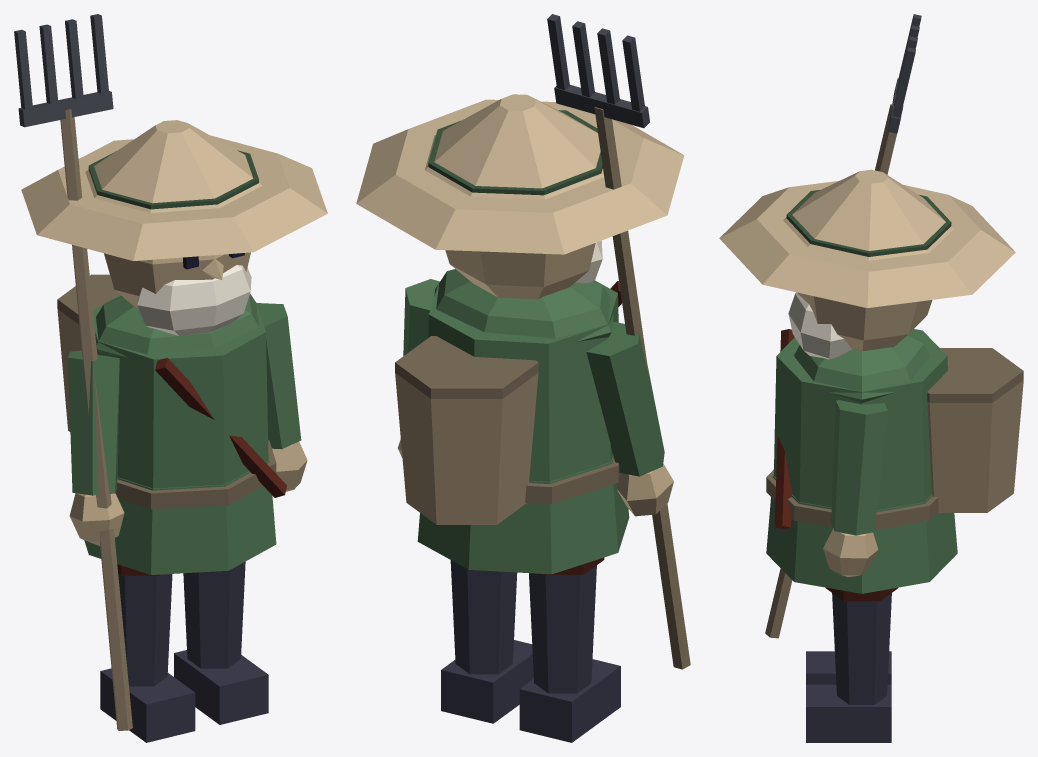
File: corran.glb
3 renders of one model, left to right at view 1: azimuth 30°, elevation 25°; view 2: azimuth 150°, elevation 25°; view 3: azimuth 270°, elevation 25°, orthographic. The views are drawn at different scales.
Parts seen in each view (by area): view 1: Torso, Head, ArmR, LegL, LegR, ArmL; view 2: Torso, Head, ArmR, LegR, LegL, ArmL; view 3: Torso, Head, LegL, ArmL, ArmR, LegR.
Boxes of the visible parts, x1,y1,x2,y2 form: Torso: (57,274,286,574); Head: (21,120,327,335); ArmR: (14,14,132,730); LegL: (174,561,268,724); LegR: (100,564,195,742); ArmL: (257,303,307,491); Torso: (395,269,629,574); Head: (356,94,684,299); ArmR: (547,14,690,669); LegR: (519,557,620,742); LegL: (441,560,533,723); ArmL: (398,279,439,458); Torso: (766,329,1023,593); Head: (719,169,1015,359); LegL: (806,587,897,742); ArmL: (823,400,887,576); ArmR: (765,14,921,638); LegR: (806,651,891,684).
Bounding box in the file's own units: 0.9 × 2.14 × 0.9226.
